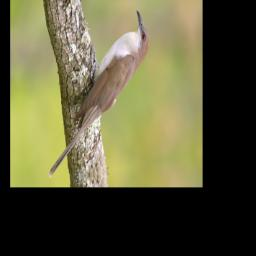Cuckoo: (36, 6, 159, 177)
